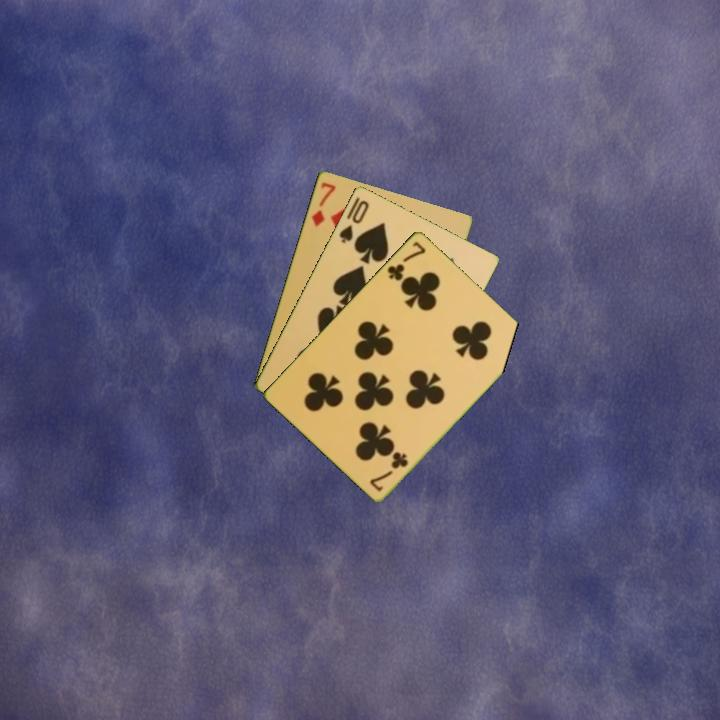10s: (335, 196, 372, 246)
7c: (366, 447, 411, 494), (384, 237, 429, 283)
7d: (308, 178, 338, 229)
